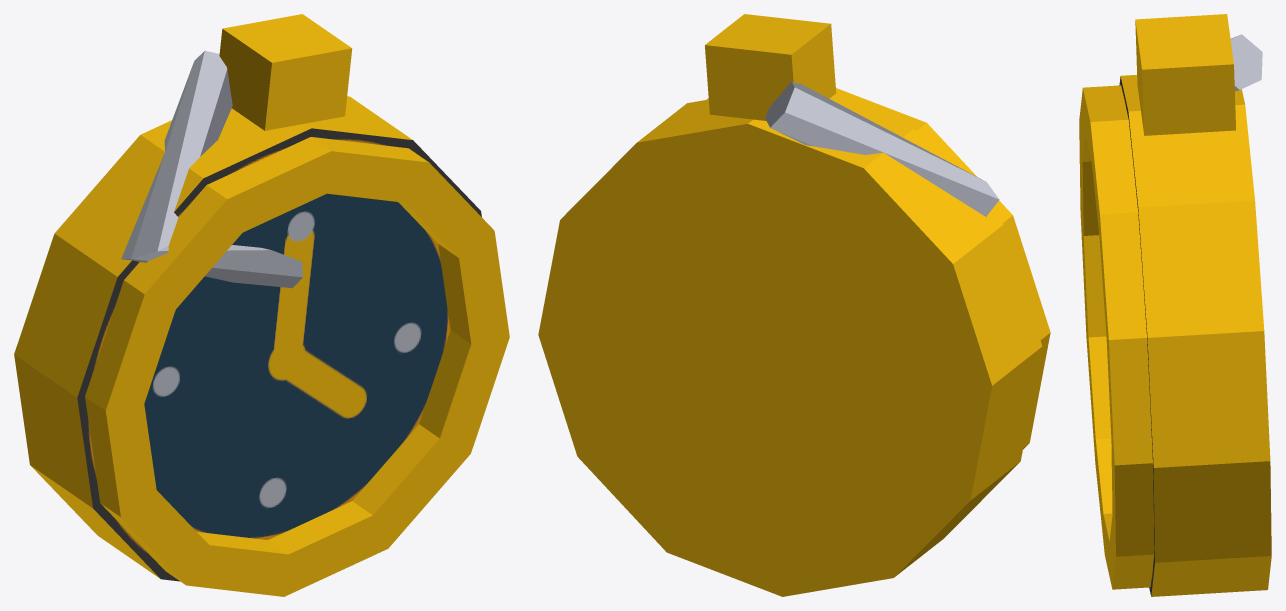
File: debt_clock_1.glb
The picture shows the model from 3 angles, left to right: view 1: azimuth 30°, elevation 25°; view 2: azimuth 150°, elevation 25°; view 3: azimuth 270°, elevation 25°; orthographic projection. The views are drawn at different scales.
Visible parts, largest first — view 1: display_debt_clock_wear_debt_clock_single; view 2: display_debt_clock_wear_debt_clock_single; view 3: display_debt_clock_wear_debt_clock_single.
Part boxes in pixels (x1,y1,x2,y2): display_debt_clock_wear_debt_clock_single: (14, 14, 509, 596); display_debt_clock_wear_debt_clock_single: (538, 14, 1050, 596); display_debt_clock_wear_debt_clock_single: (1079, 14, 1271, 596).
Size of the model in its own units: 0.32 by 0.3674 by 0.1171.
3 materials, 1 textured.
